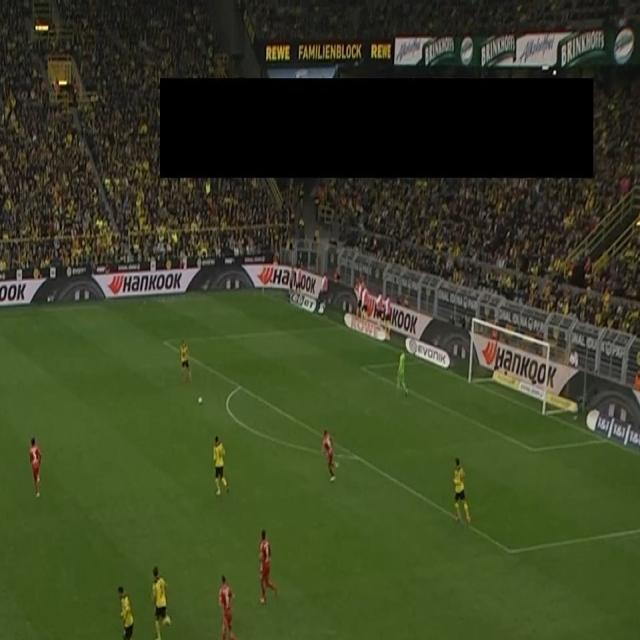ball: (196, 395, 204, 407)
